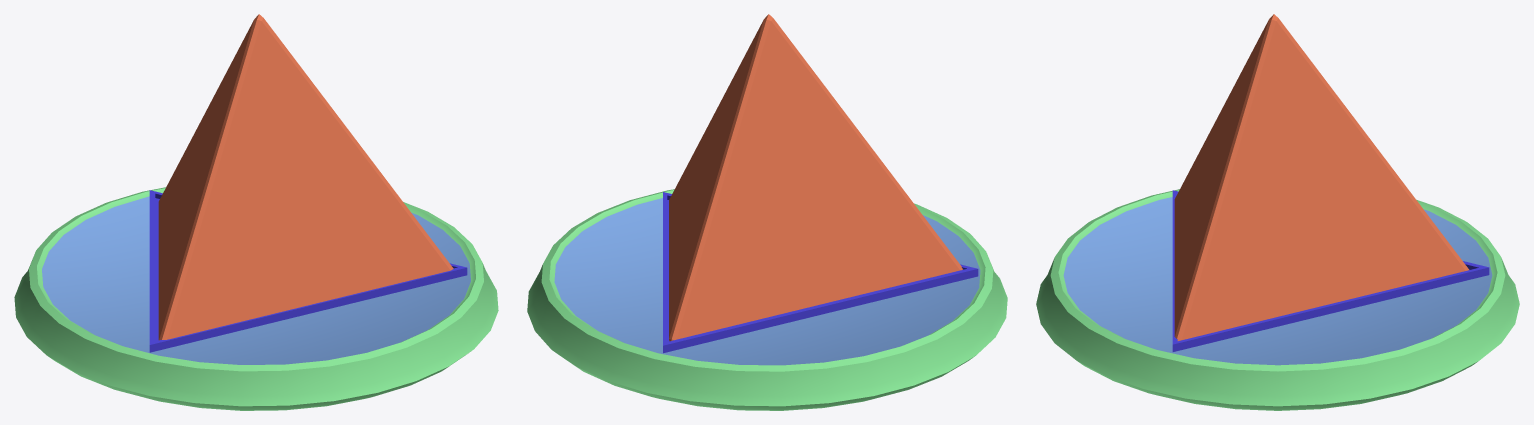
File: Piramide .fbx
3 renders of one model, left to right at view 1: azimuth 30°, elevation 25°; view 2: azimuth 150°, elevation 25°; view 3: azimuth 270°, elevation 25°, orthographic.
Parts seen in each view (by area): view 1: Cone, Cylinder.039, Cone.001; view 2: Cone, Cylinder.039, Cone.001; view 3: Cone, Cylinder.039, Cone.001.
Boxes of the visible parts, left/top/right/bottom form: Cone: left=158, top=14, right=453, bottom=340; Cylinder.039: left=14, top=187, right=498, bottom=410; Cone.001: left=149, top=190, right=467, bottom=352; Cone: left=669, top=14, right=962, bottom=341; Cylinder.039: left=527, top=189, right=1007, bottom=410; Cone.001: left=663, top=192, right=978, bottom=353; Cone: left=1174, top=14, right=1468, bottom=340; Cylinder.039: left=1036, top=189, right=1519, bottom=410; Cone.001: left=1172, top=190, right=1489, bottom=351.
Size of the model in its own units: 65.1 by 46.22 by 65.1.
